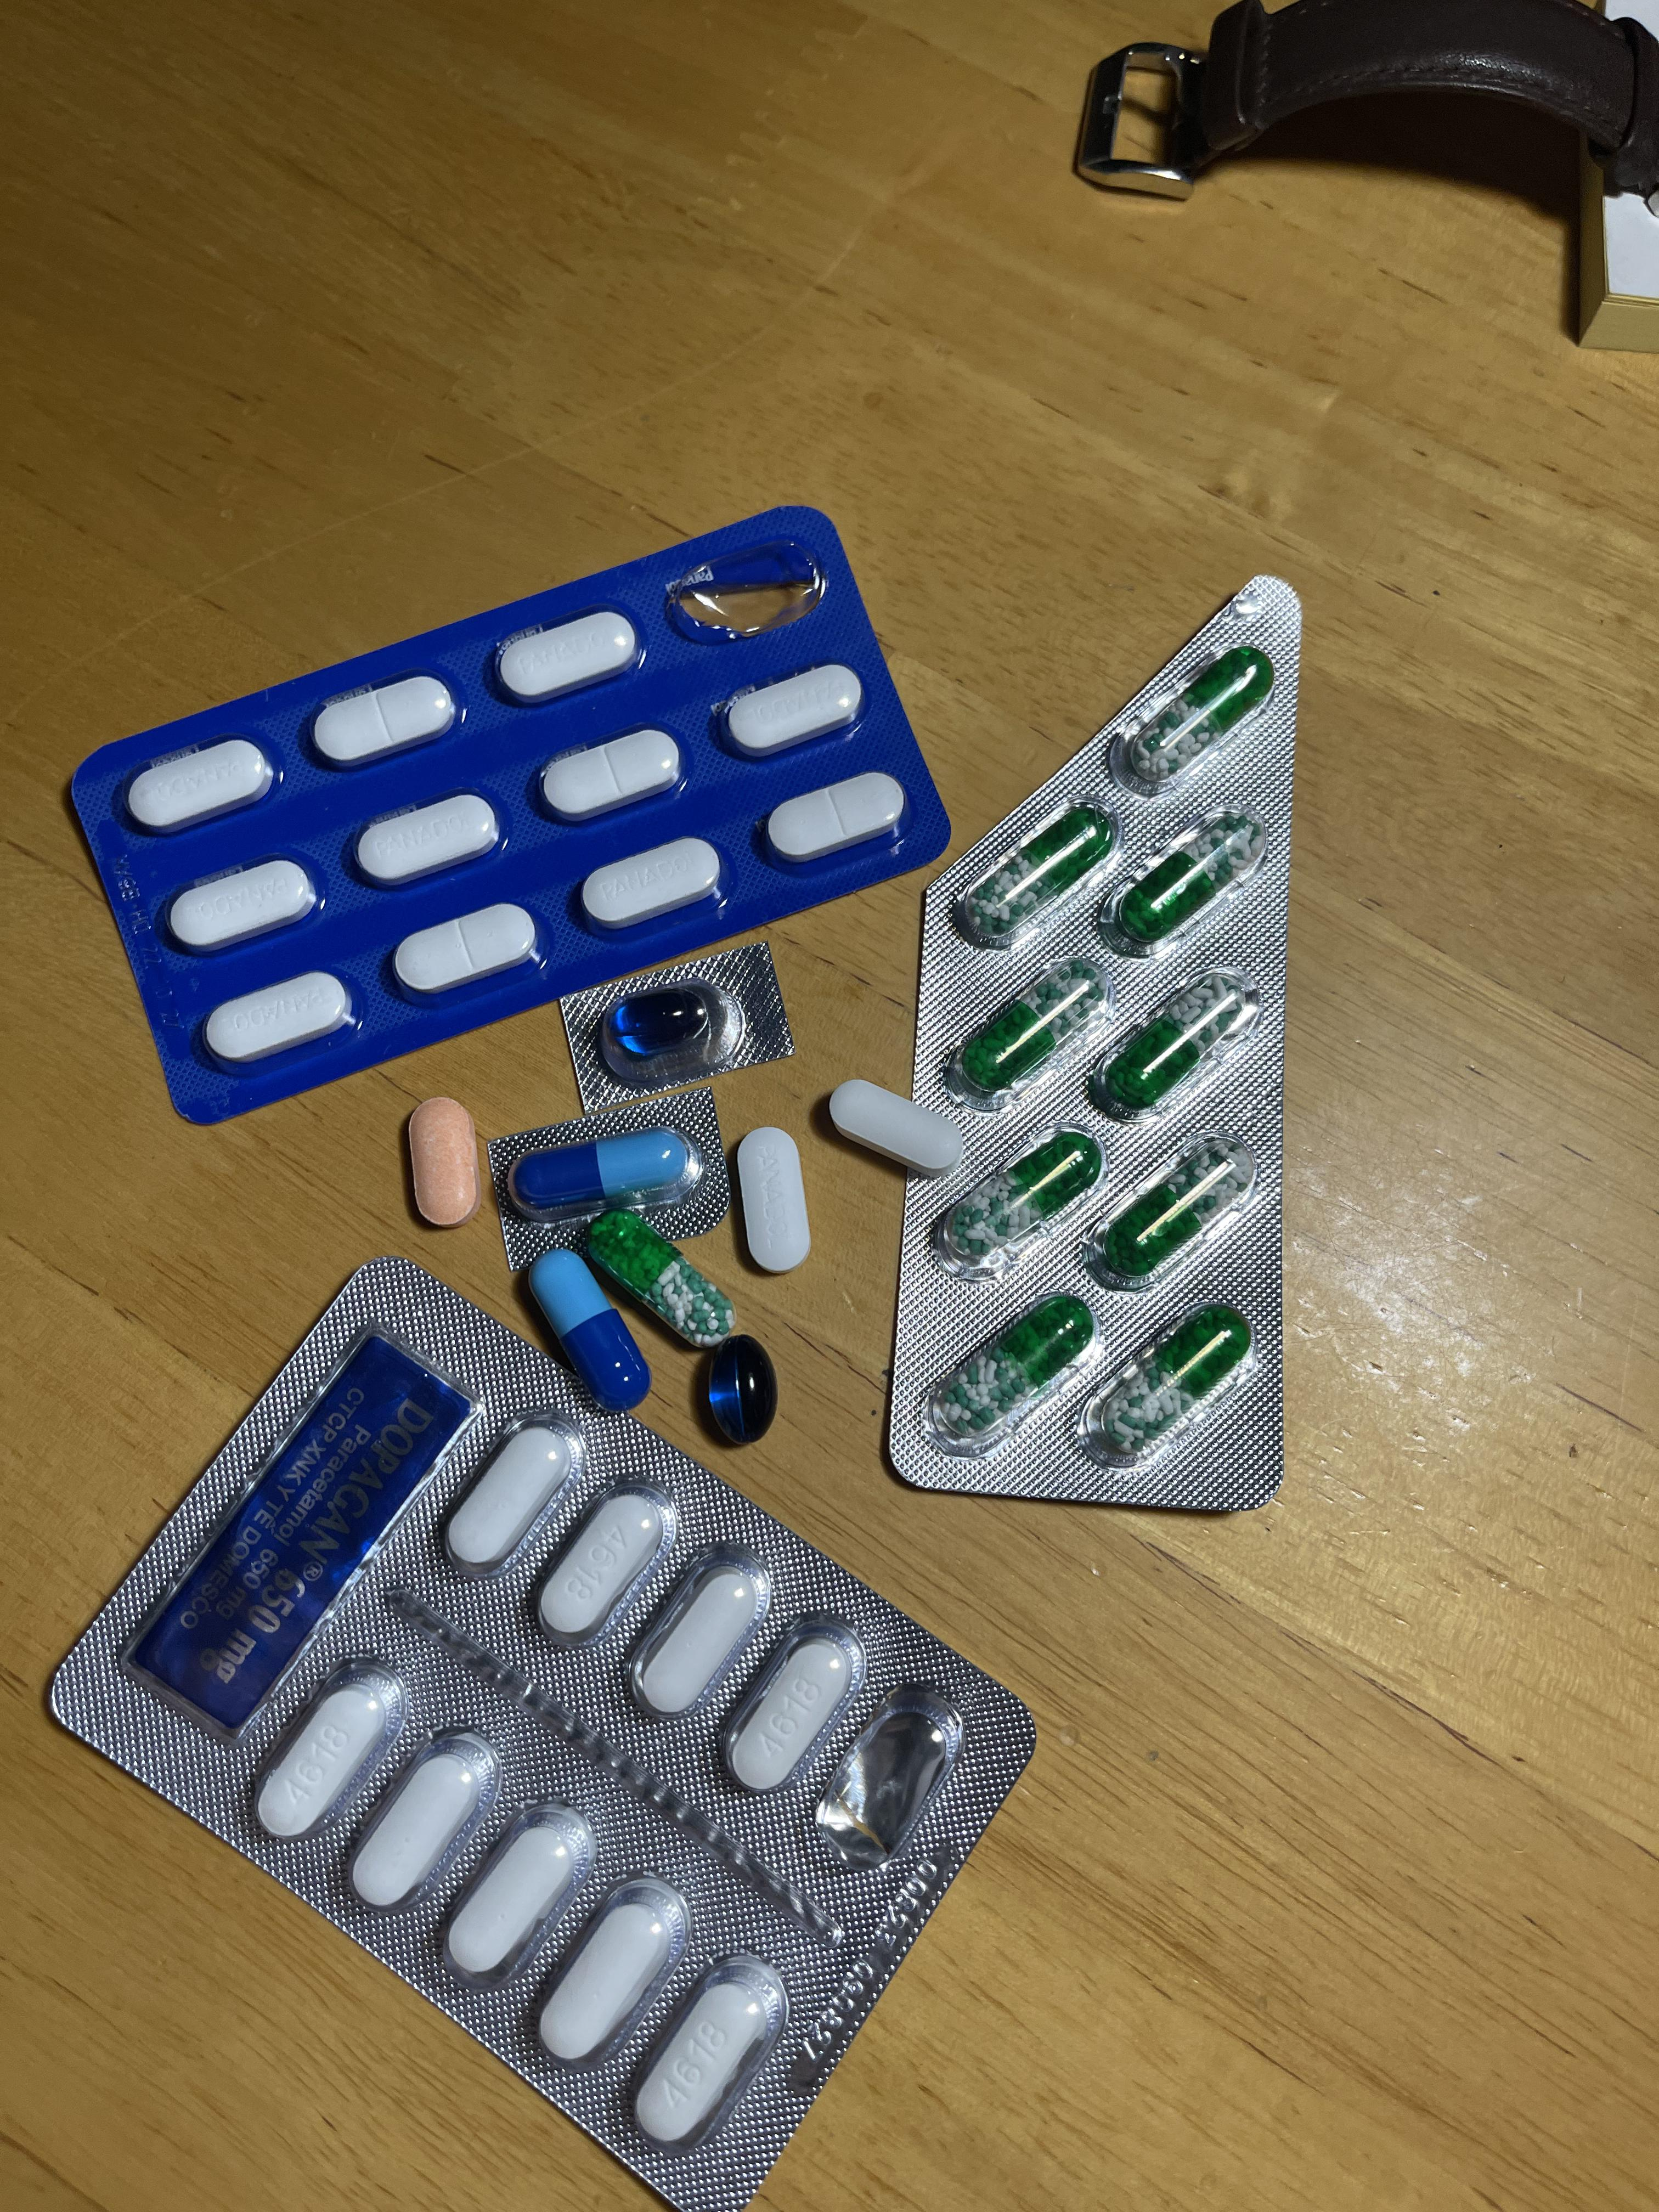Lincomyxin_500mg: (706, 1334, 779, 1440), (606, 988, 711, 1054)
Loratadine_10mg: (408, 1097, 481, 1221)
Paracetamol_350mg: (167, 857, 319, 954), (204, 968, 356, 1066), (125, 737, 274, 834), (354, 791, 500, 885), (394, 904, 538, 998), (721, 664, 866, 758), (542, 726, 683, 822), (495, 610, 638, 704), (312, 674, 453, 768), (765, 772, 906, 866), (580, 840, 723, 932), (734, 1125, 812, 1271)
Paracetamol_500mg: (537, 1876, 694, 2073), (444, 1817, 584, 1986), (357, 1742, 488, 1907), (261, 1683, 390, 1841), (638, 1984, 765, 2141), (638, 1564, 763, 1712), (728, 1639, 849, 1789), (448, 1425, 575, 1561), (540, 1500, 653, 1632), (828, 1082, 960, 1181)
Paracetamol_650mg: (1091, 1299, 1253, 1468), (1086, 1127, 1255, 1285), (929, 1291, 1094, 1451), (1094, 970, 1258, 1118), (934, 1125, 1096, 1273), (960, 799, 1117, 948), (1103, 810, 1262, 956), (1122, 646, 1272, 796), (958, 958, 1112, 1103), (582, 1207, 737, 1348)
pill: (528, 1244, 650, 1400), (509, 1130, 704, 1224)
